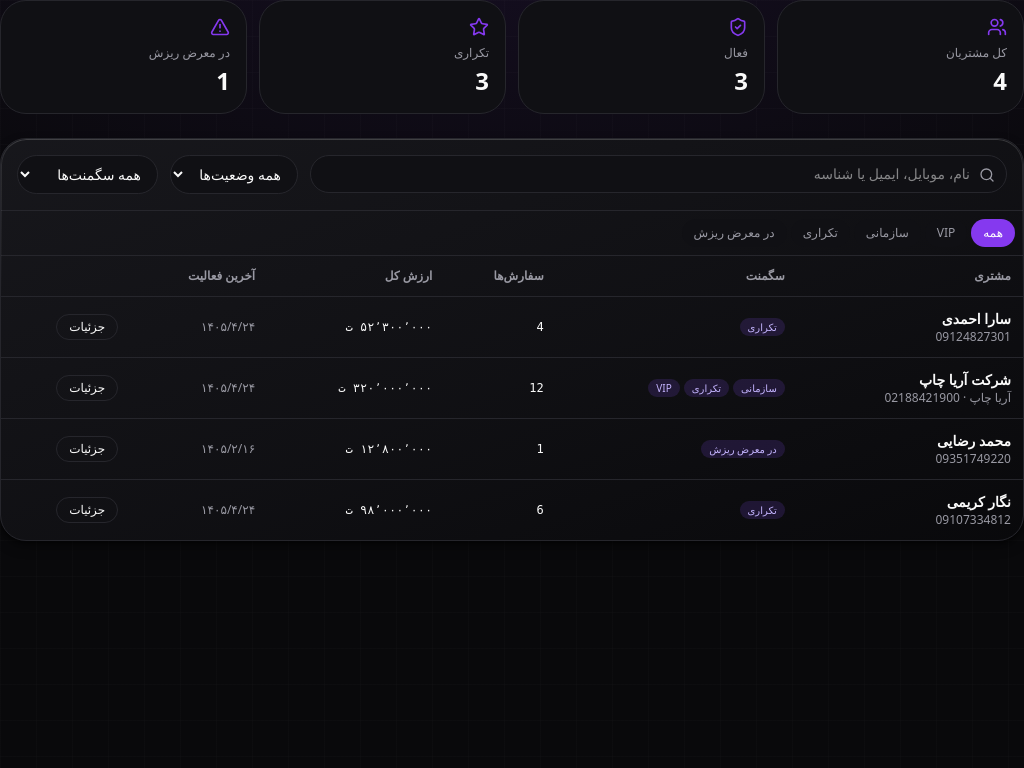
Test: CustomersClient › جزئیات مشتری و deriveCustomerSegments را باز می‌کند
Click the button "جزئیات" in the row of "سارا احمدی": (87,327) [56, 314, 118, 340]
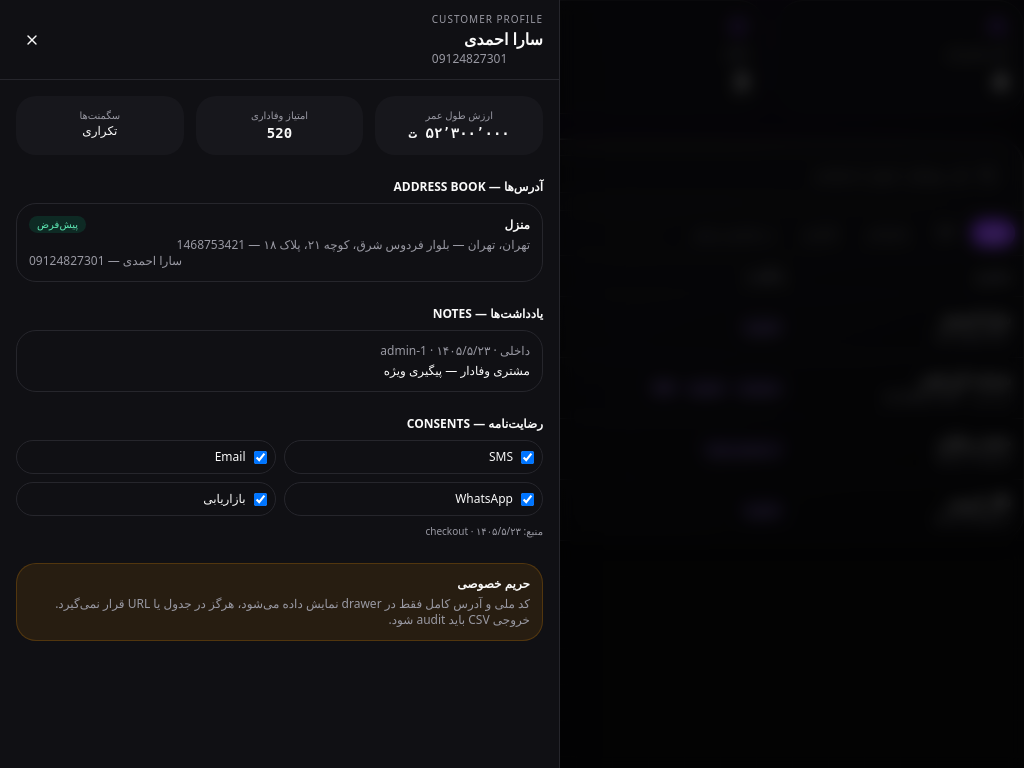
Check: the text "ارزش طول عمر" is shown, box [425, 108, 493, 122]
Check: the heading "آدرس‌ها — ADDRESS BOOK" is shown, box [394, 178, 543, 195]
